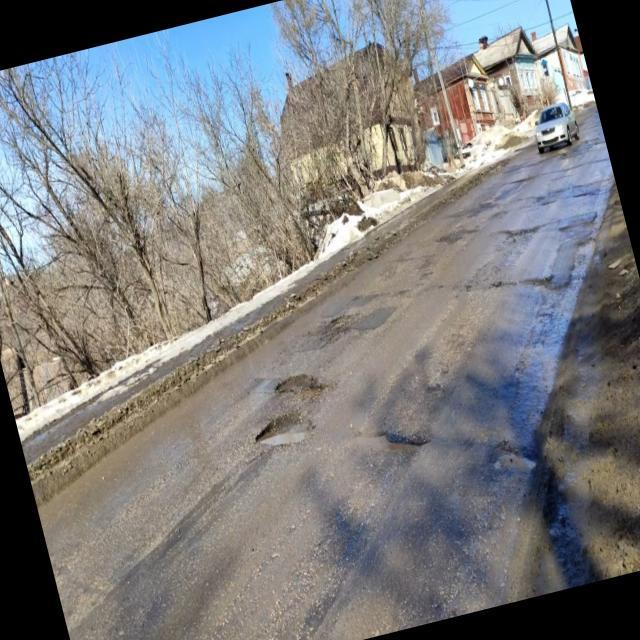Pothole: (354, 414, 430, 474), (246, 404, 325, 459), (267, 364, 332, 408), (489, 432, 538, 480), (317, 305, 358, 339)
